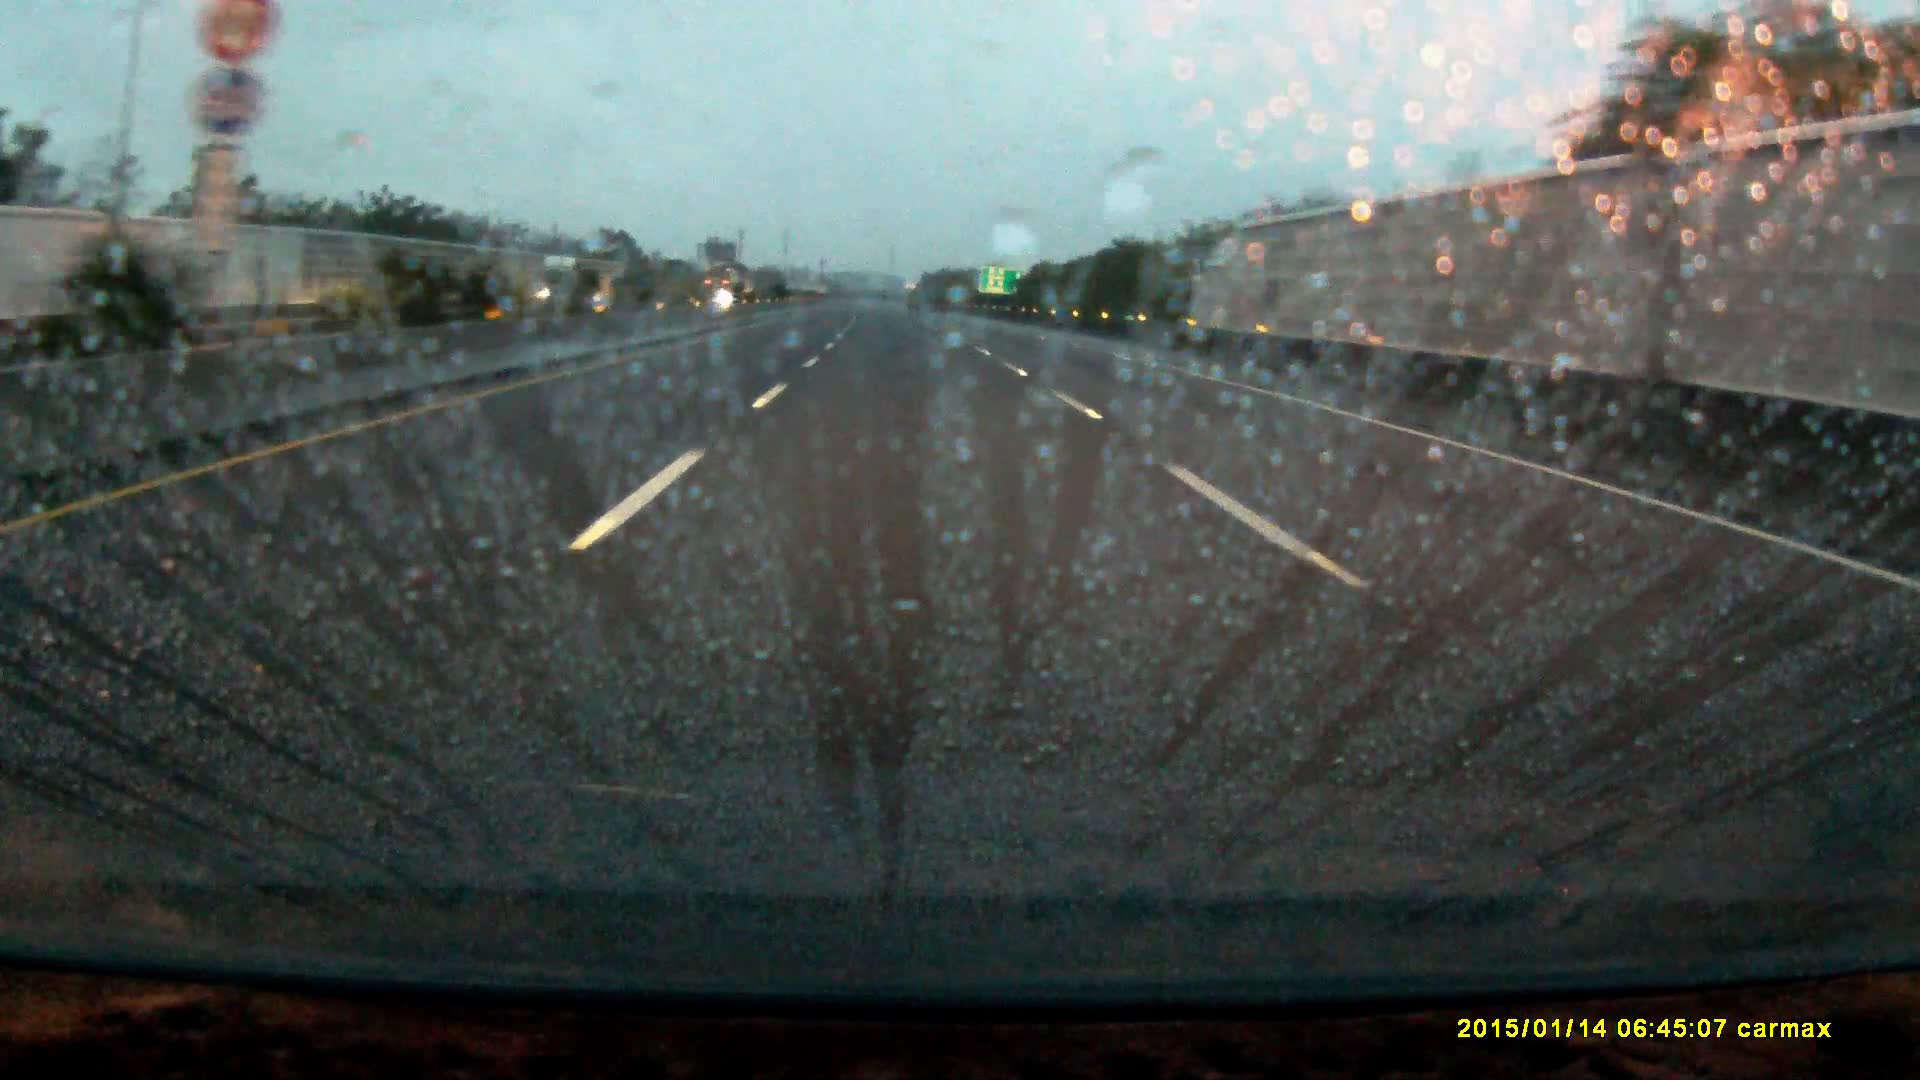vehicle: (535, 256, 607, 307), (702, 273, 740, 309)
